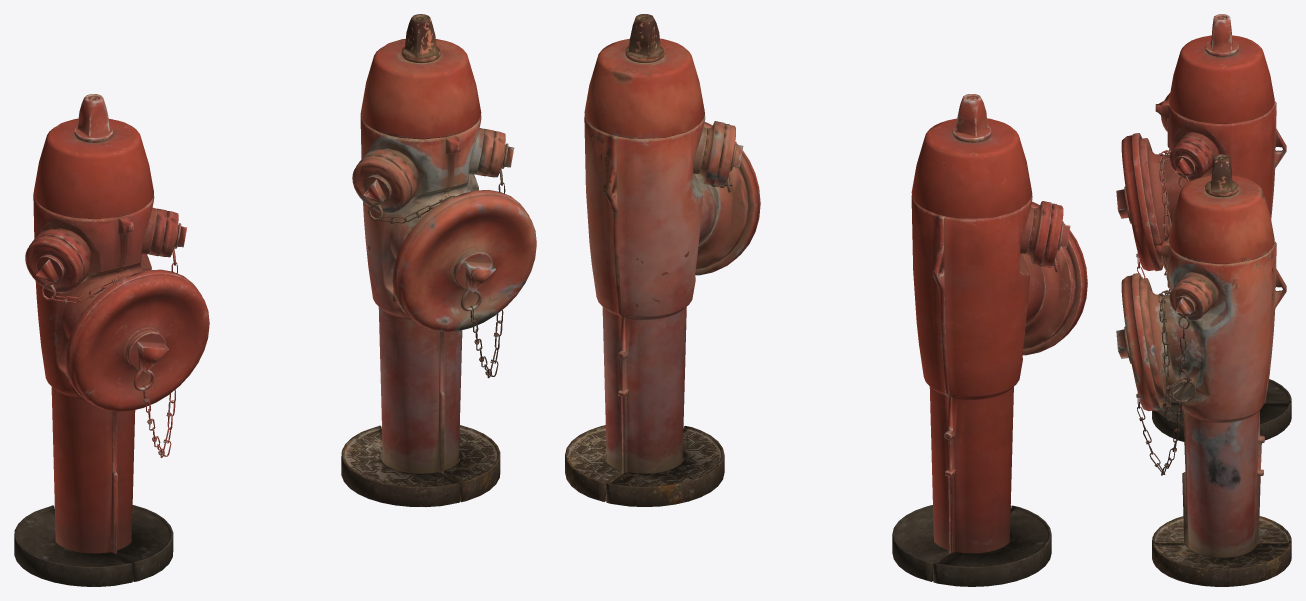
The model's file is ph_hydrant.glb.
3 views of the same model, side by side, from view 1: azimuth 30°, elevation 25°; view 2: azimuth 150°, elevation 25°; view 3: azimuth 270°, elevation 25° (orthographic). The views are drawn at different scales.
Parts seen in each view (by area): view 1: fire_hydrant_aged, fire_hydrant; view 2: fire_hydrant, fire_hydrant_aged; view 3: fire_hydrant_aged, fire_hydrant.
Part boxes in pixels (x1,y1,x2,y2): fire_hydrant_aged: [341, 14, 536, 506]; fire_hydrant: [14, 94, 209, 586]; fire_hydrant: [892, 94, 1087, 586]; fire_hydrant_aged: [565, 14, 760, 506]; fire_hydrant_aged: [1116, 154, 1291, 586]; fire_hydrant: [1116, 14, 1291, 441].
Bounding box in the file's own units: 0.8745 × 0.7994 × 0.3173.
2 materials, 2 textured.
